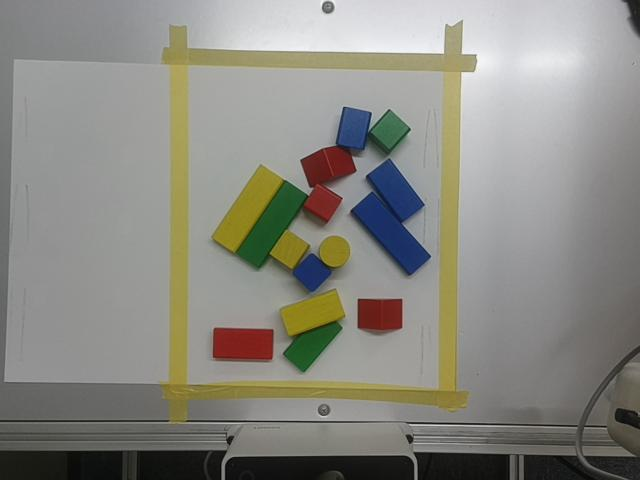blue_cube: (293, 253, 330, 291)
blue_longrect: (351, 192, 429, 274)
blue_rect: (367, 159, 423, 222)
cylinder: (319, 236, 350, 267)
green_cube: (368, 110, 410, 154)
green_longrect: (212, 166, 306, 267)
green_rect: (284, 322, 341, 371)
half_cylinder: (336, 107, 371, 150)
red_cube: (303, 185, 341, 223)
red_rect: (213, 328, 273, 359)
triangle: (301, 146, 355, 187), (358, 299, 401, 331)
yellow_cube: (270, 230, 309, 269)
yellow_longrect: (212, 165, 283, 252)
yelow_rect: (280, 290, 344, 336)
